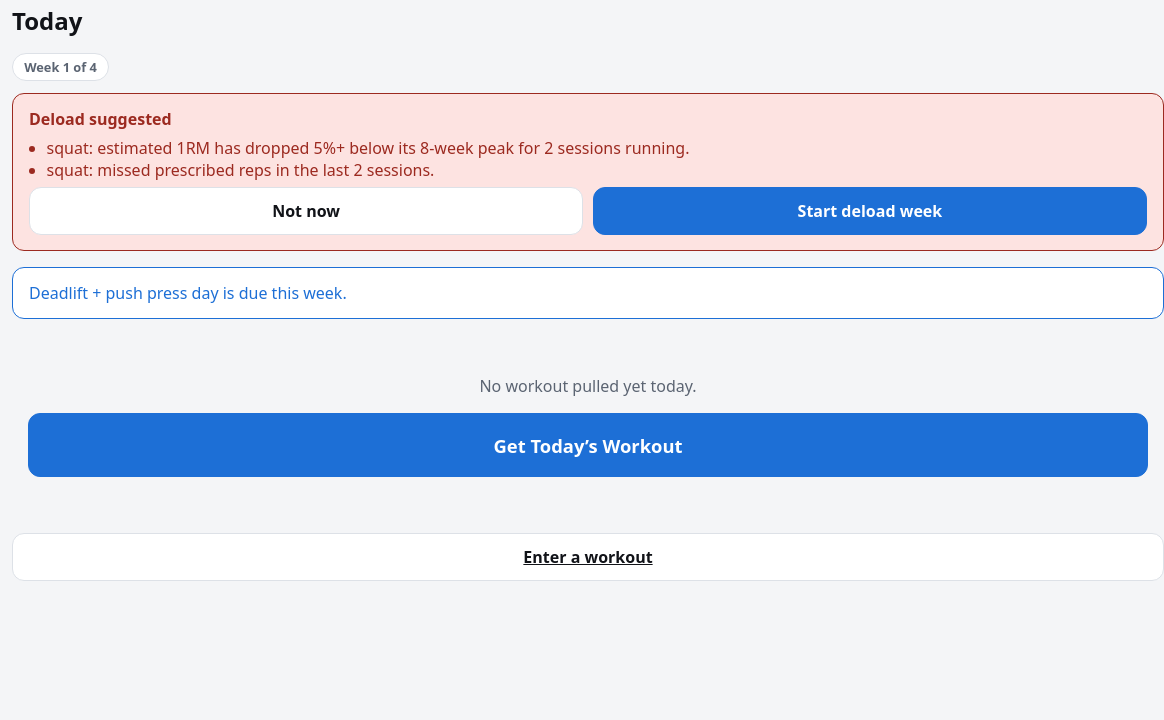
Test case: Today page — deload banner (SPEC 9.6/9.9) › "Not now" dismisses the flags for the cycle and hides the banner
Click the button "Not now" at (306, 211), box [29,187,583,235]
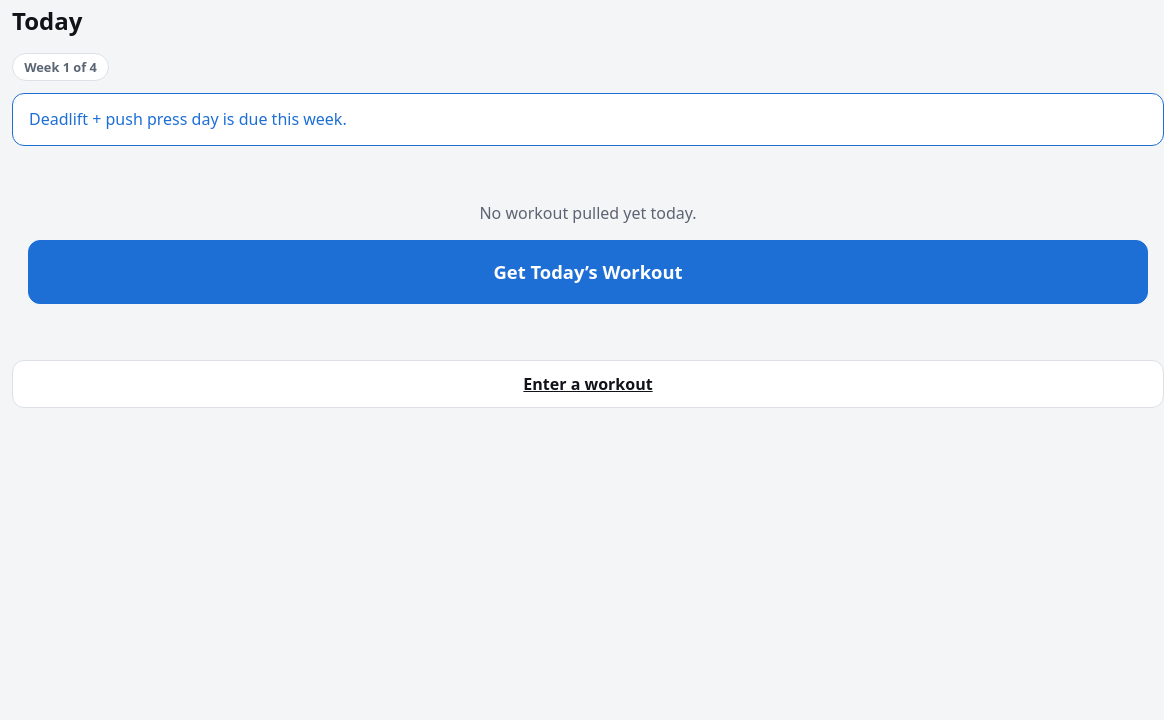
Now the text "Deload suggested" is gone
